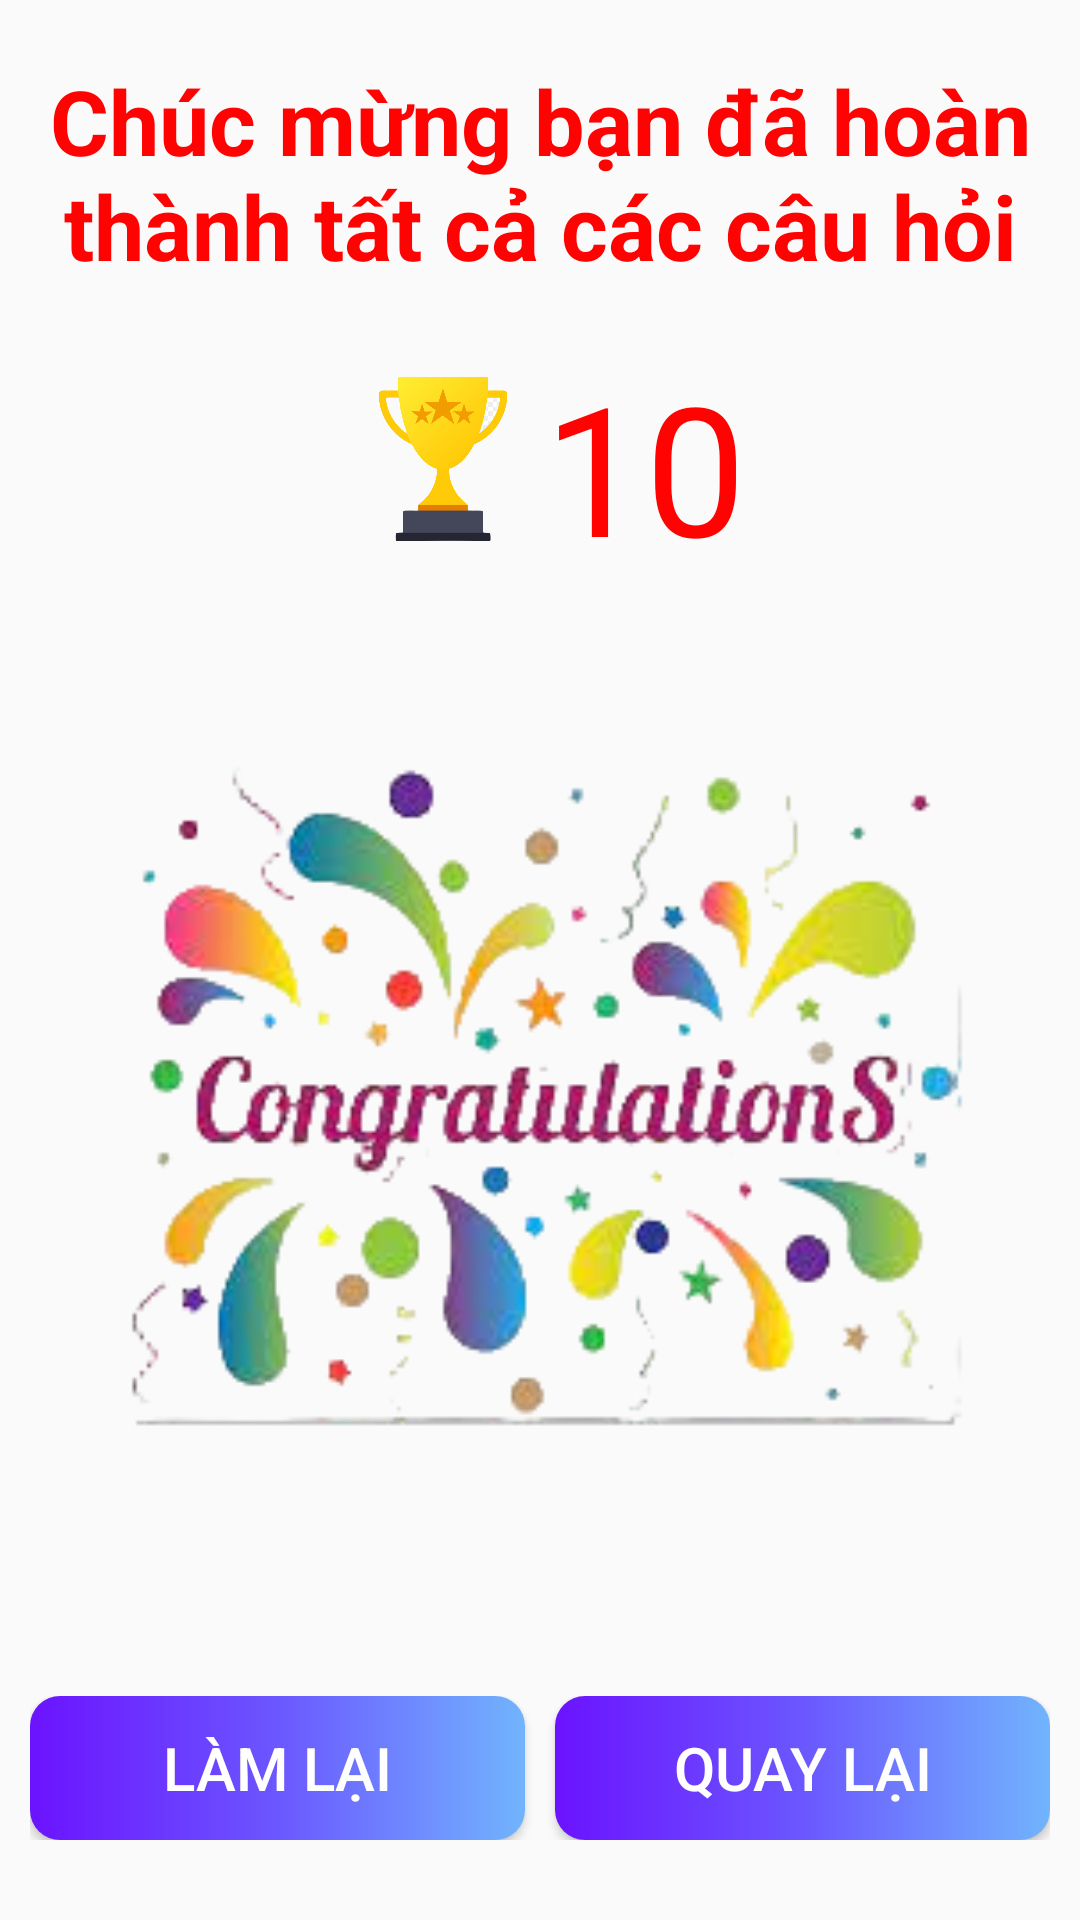

Named icons in this screenshot (1080 x 1920) and their bounding boxes, (x1, y1, x2, y2):
cup: (379, 377, 507, 541)
